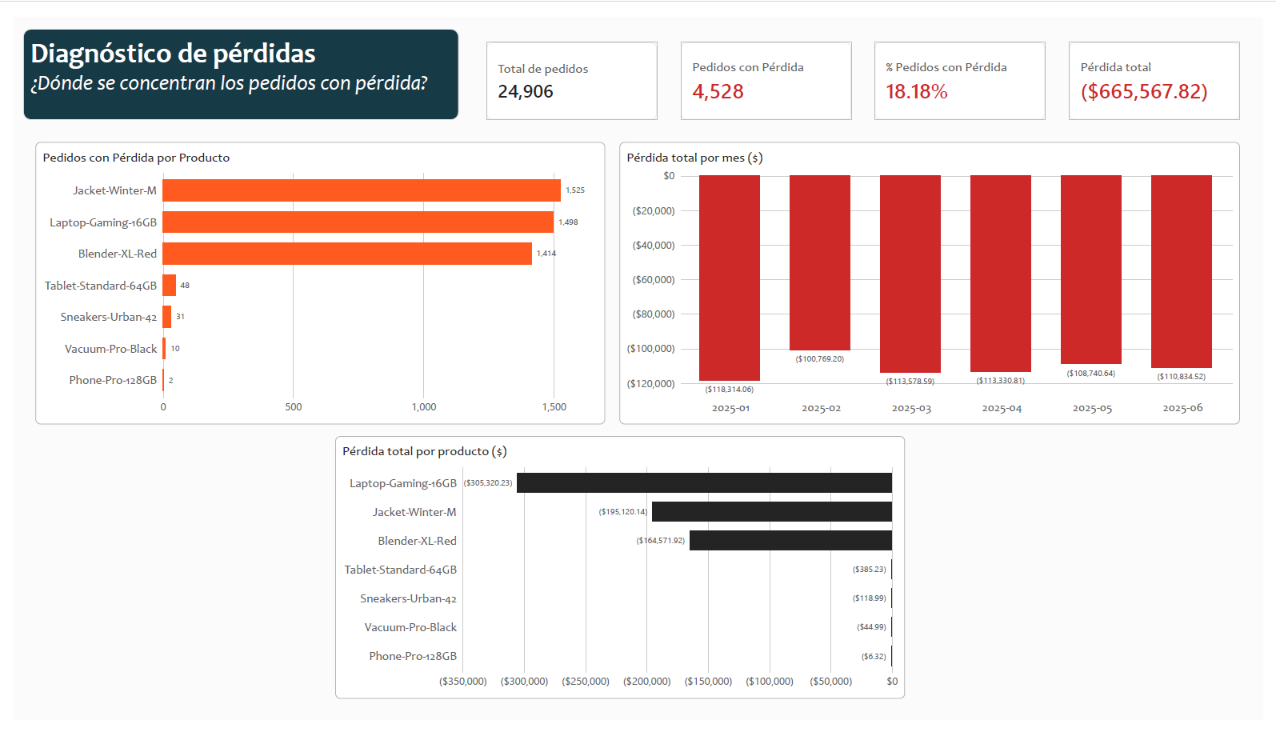

The page's visual inventory and layout, read from the dashboard file:
{"tool":"powerbi","page":{"name":"Diagnóstico de Pérdidas","canvas":[1920,1080],"ordinal":3},"visuals":[{"type":"textbox","box":[14,18,670,140],"z":0},{"type":"clusteredBarChart","title":"Pedidos con Pérdida por Producto","fields":{"Category":["orders_clean.nombre_producto"],"Y":["orders_clean.Pedidos con pérdida"]},"box":[33.2,191.6,876,434],"z":1},{"type":"cardVisual","fields":{"Data":["orders_clean.Pedidos con pérdida"]},"box":[1024.7,38,263,120],"z":2},{"type":"cardVisual","fields":{"Data":["orders_clean.% Pérdida"]},"box":[1323.3,38,263,120],"z":3},{"type":"cardVisual","fields":{"Data":["orders_clean.Pérdida total"]},"box":[1622,38,263,120],"z":4},{"type":"clusteredColumnChart","title":"Pérdida total por mes ($)","fields":{"Category":["dim_fecha.Año-Mes"],"Y":["orders_clean.Pérdida total"]},"box":[931.2,191.6,954,434],"z":5},{"type":"cardVisual","fields":{"Data":["orders_clean.Total de pedidos"]},"box":[726,38,263,120],"z":6},{"type":"clusteredBarChart","title":"Pérdida total por producto ($)","fields":{"Category":["orders_clean.nombre_producto"],"Y":["orders_clean.Pérdida total"]},"box":[494,644,876,404],"z":7}]}

Visuals, with their boxes in screenshot pixels (x1, y1, x2, y2), scaled from the page's 1920x1080 canvas onto the 1276x732 screenshot:
textbox: {"x1": 9, "y1": 12, "x2": 455, "y2": 107}
"Pedidos con Pérdida por Producto" clusteredBarChart: {"x1": 22, "y1": 130, "x2": 604, "y2": 424}
cardVisual - orders_clean.Pedidos con pérdida: {"x1": 681, "y1": 26, "x2": 856, "y2": 107}
cardVisual - orders_clean.% Pérdida: {"x1": 879, "y1": 26, "x2": 1054, "y2": 107}
cardVisual - orders_clean.Pérdida total: {"x1": 1078, "y1": 26, "x2": 1253, "y2": 107}
"Pérdida total por mes ($)" clusteredColumnChart: {"x1": 619, "y1": 130, "x2": 1253, "y2": 424}
cardVisual - orders_clean.Total de pedidos: {"x1": 482, "y1": 26, "x2": 657, "y2": 107}
"Pérdida total por producto ($)" clusteredBarChart: {"x1": 328, "y1": 436, "x2": 910, "y2": 710}
